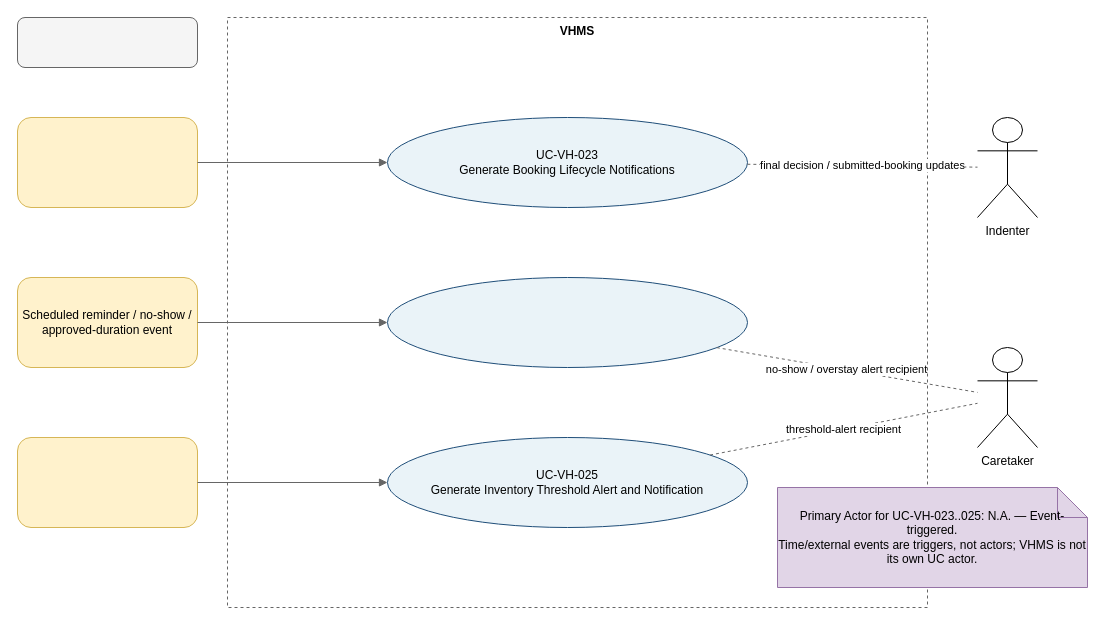
This 1105x625 diagram has some shape labels left out. Here are the shapes that lost their labels. From the top down, the centre of each, then its label:
[107,42]: Event / Time Triggers
[107,162]: Booking submission / decision / modification / cancellation event
[567,322]: UC-VH-024 Generate Stay Reminders and Exception Alerts
[107,482]: Inventory quantity falls below recorded threshold
